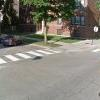Tree: (22, 1, 71, 48)
